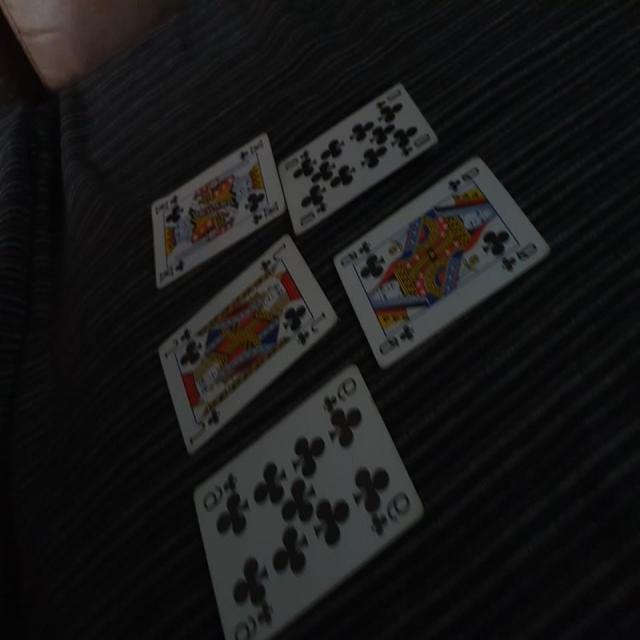10 of clubs: (279, 82, 441, 236)
9 of clubs: (191, 365, 427, 640)
jack of clubs: (158, 234, 341, 454)
king of clubs: (152, 134, 284, 292)
queen of clubs: (332, 152, 554, 372)
